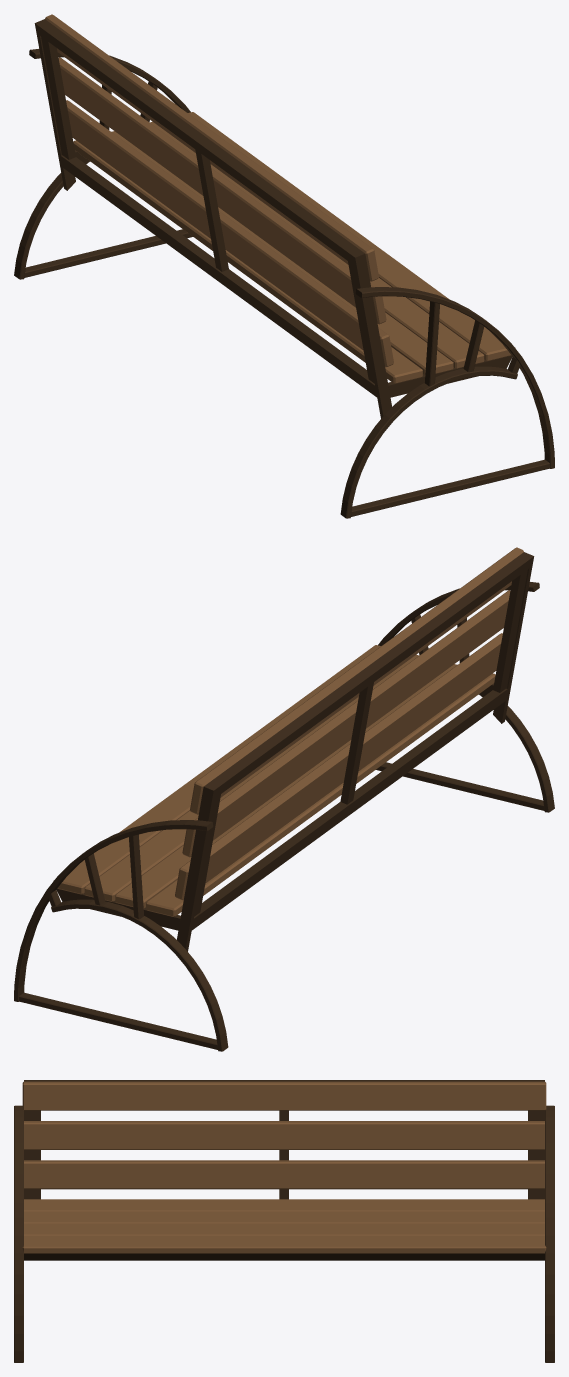
3 views of the same model, one above another, from view 1: azimuth 30°, elevation 25°; view 2: azimuth 150°, elevation 25°; view 3: azimuth 270°, elevation 25° (orthographic). The views are drawn at different scales.
Visible parts, largest first — view 1: B-23.1; view 2: B-23.1; view 3: B-23.1.
Boxes of the visible parts, x1,y1,x2,y2 form: B-23.1: (14, 14, 554, 518); B-23.1: (14, 547, 554, 1051); B-23.1: (14, 1080, 554, 1362).
Size of the model in its own units: 74.79 by 88.19 by 206.
